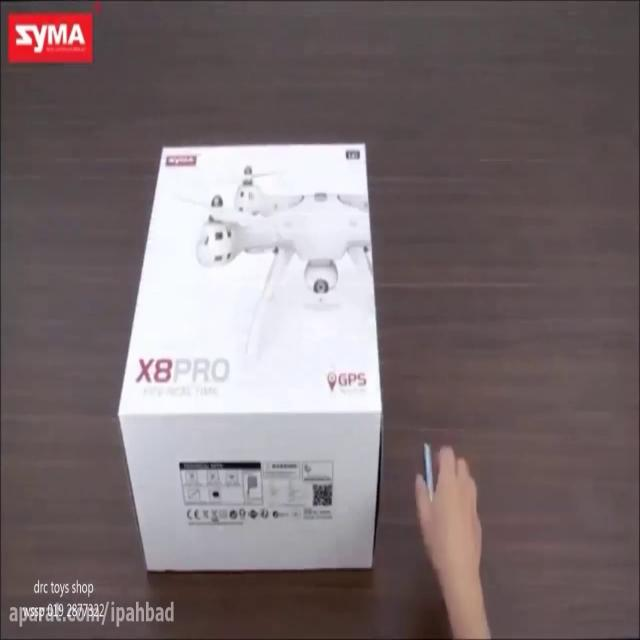drone: (181, 159, 375, 300)
